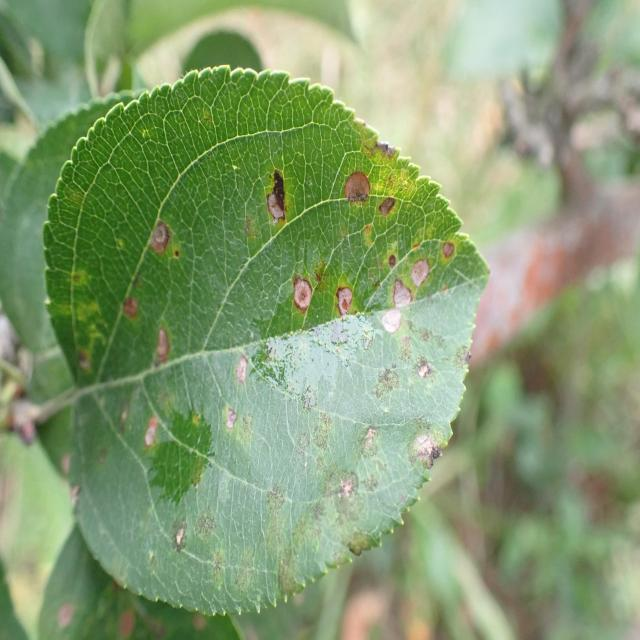frog-eye-leaf-spot: (42, 63, 492, 618)
